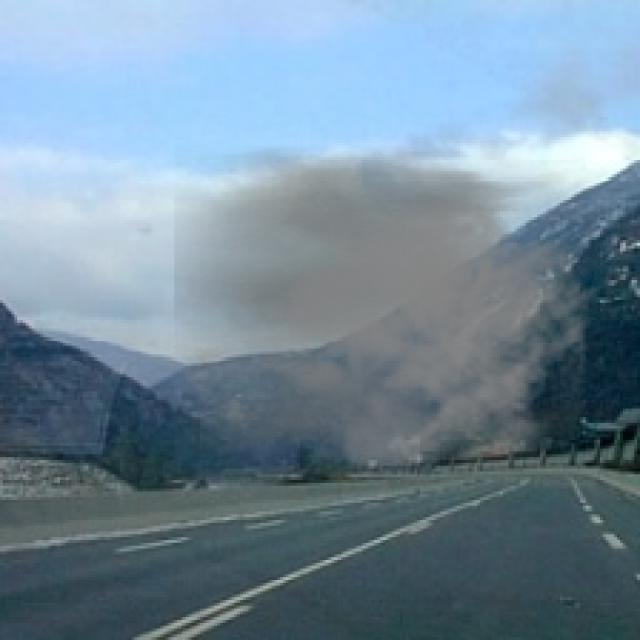Smoke: (175, 146, 600, 488)
